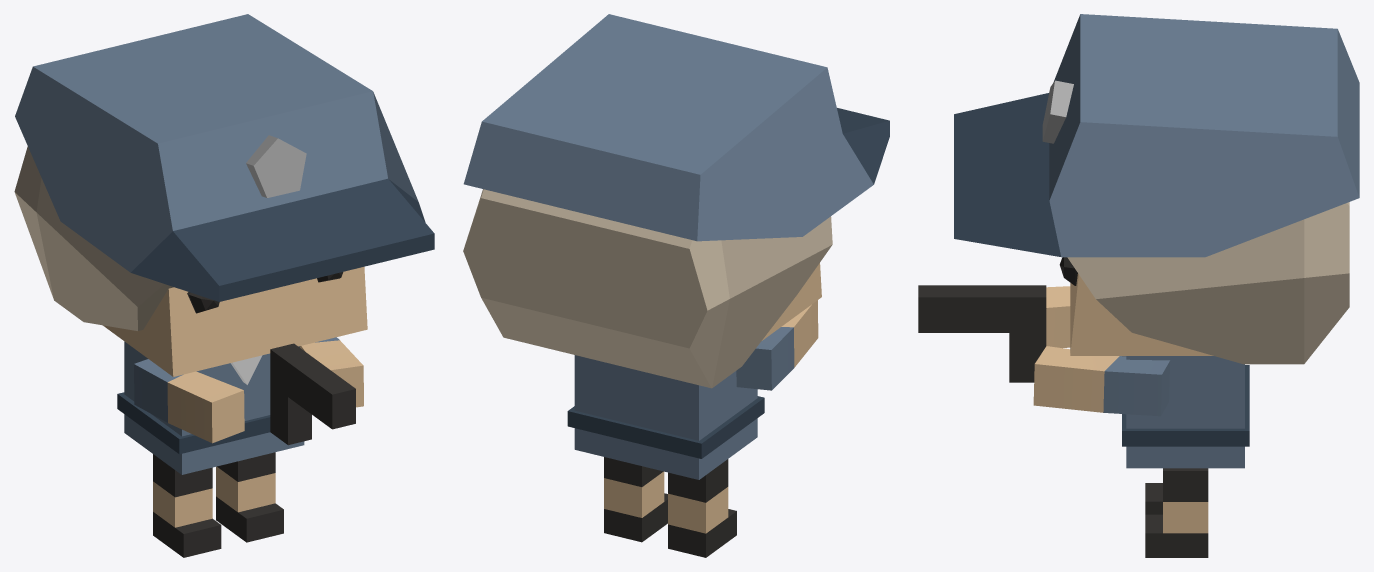
Rendered from Police_Blue_fixed.fbx.
3 views of the same model, side by side, from view 1: azimuth 30°, elevation 25°; view 2: azimuth 150°, elevation 25°; view 3: azimuth 270°, elevation 25° (orthographic). The views are drawn at different scales.
Parts seen in each view (by area): view 1: Head_blu, Foot_blu, Body_Police_blue, Arms_blu, Gun_blu; view 2: Head_blu, Body_Police_blue, Foot_blu, Arms_blu; view 3: Head_blu, Body_Police_blue, Arms_blu, Gun_blu, Foot_blu.
Part boxes in pixels (x1=…): Head_blu: x1=14, y1=14, x2=434, y2=376; Foot_blu: x1=153, y1=452, x2=283, y2=557; Body_Police_blue: x1=117, y1=341, x2=304, y2=474; Arms_blu: x1=134, y1=337, x2=363, y2=443; Gun_blu: x1=270, y1=343, x2=355, y2=445; Head_blu: x1=463, y1=14, x2=889, y2=388; Body_Police_blue: x1=567, y1=355, x2=764, y2=479; Foot_blu: x1=604, y1=457, x2=736, y2=557; Arms_blu: x1=736, y1=300, x2=818, y2=390; Head_blu: x1=954, y1=14, x2=1359, y2=364; Body_Police_blue: x1=1122, y1=356, x2=1249, y2=468; Arms_blu: x1=1033, y1=286, x2=1170, y2=416; Gun_blu: x1=918, y1=285, x2=1046, y2=382; Foot_blu: x1=1145, y1=468, x2=1208, y2=557.
Size of the model in its own units: 1.48 by 2.22 by 1.91.
